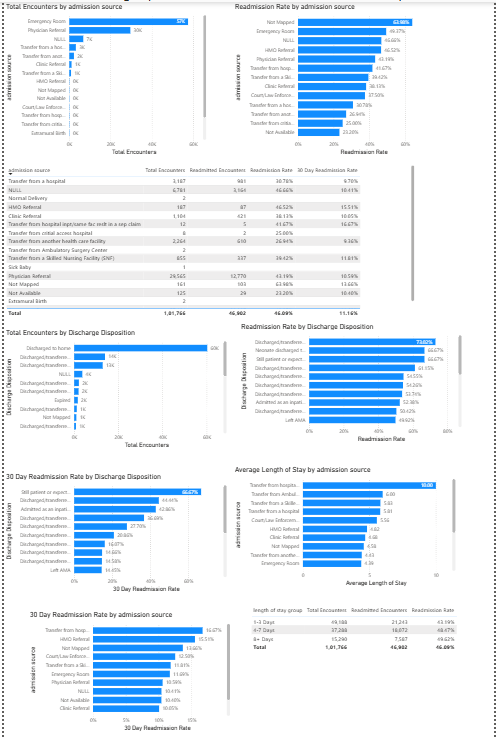

What the dashboard file says about the page in this screenshot:
{"tool":"powerbi","page":{"name":"Hospital / Operational Analysis","canvas":[1200,1800],"ordinal":4},"visuals":[{"type":"tableEx","fields":{"Values":["diabetic_data.admission source","diabetic_data.Total Encounters","diabetic_data.Readmitted Encounters","diabetic_data.Readmission Rate","diabetic_data.30 Day Readmission Rate"]},"box":[0,395,1009,380],"z":0},{"type":"clusteredBarChart","fields":{"Category":["diabetic_data.admission source"],"Y":["diabetic_data.Total Encounters"]},"box":[-0.5,0,500,380],"z":1000},{"type":"clusteredBarChart","fields":{"Y":["diabetic_data.Readmission Rate"],"Category":["diabetic_data.admission source"]},"box":[559,0,500,380],"z":2000},{"type":"clusteredBarChart","fields":{"Y":["diabetic_data.30 Day Readmission Rate"],"Category":["diabetic_data.admission source"]},"box":[59,1489,500,300],"z":3000},{"type":"clusteredBarChart","fields":{"Category":["discharge_disposition_map.Discharge Disposition"],"Y":["diabetic_data.Total Encounters"]},"box":[0,797,550,300],"z":4000},{"type":"clusteredBarChart","fields":{"Category":["discharge_disposition_map.Discharge Disposition"],"Y":["diabetic_data.Readmission Rate"]},"box":[575,783,550,300],"z":5000},{"type":"clusteredBarChart","fields":{"Category":["discharge_disposition_map.Discharge Disposition"],"Y":["diabetic_data.30 Day Readmission Rate"]},"box":[0,1150,550,300],"z":6000},{"type":"tableEx","fields":{"Values":["diabetic_data.length of stay group","diabetic_data.Total Encounters","diabetic_data.Readmitted Encounters","diabetic_data.Readmission Rate"]},"box":[600,1469,525,147],"z":7000},{"type":"clusteredBarChart","fields":{"Category":["diabetic_data.admission source"],"Y":["Admission_source_map.Average Length of Stay"]},"box":[559,1133,550,300],"z":8000}]}

Visuals, with their boxes in screenshot pixels (x1, y1, x2, y2), scaled from the page's 1200x1800 canvas onto the 496x737 screenshot:
tableEx - diabetic_data.admission source x diabetic_data.Total Encounters: box=[0, 162, 417, 317]
clusteredBarChart - diabetic_data.admission source x diabetic_data.Total Encounters: box=[0, 0, 206, 156]
clusteredBarChart - diabetic_data.Readmission Rate x diabetic_data.admission source: box=[231, 0, 438, 156]
clusteredBarChart - diabetic_data.30 Day Readmission Rate x diabetic_data.admission source: box=[24, 610, 231, 732]
clusteredBarChart - discharge_disposition_map.Discharge Disposition x diabetic_data.Total Encounters: box=[0, 326, 227, 449]
clusteredBarChart - discharge_disposition_map.Discharge Disposition x diabetic_data.Readmission Rate: box=[238, 321, 465, 443]
clusteredBarChart - discharge_disposition_map.Discharge Disposition x diabetic_data.30 Day Readmission Rate: box=[0, 471, 227, 594]
tableEx - diabetic_data.length of stay group x diabetic_data.Total Encounters: box=[248, 601, 465, 662]
clusteredBarChart - diabetic_data.admission source x Admission_source_map.Average Length of Stay: box=[231, 464, 458, 587]
